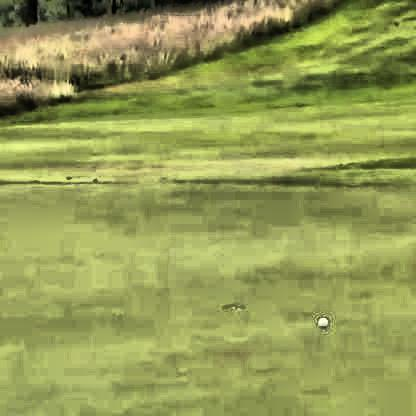golfball: (314, 314, 328, 328)
